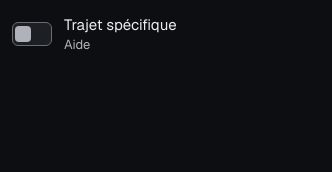
Test case: SwitchField › tout le libellé est cliquable
This screenshot has width=332, height=172.
Click the text "Aide". click: (77, 44)
box: x1=64 y1=36 x2=90 y2=53
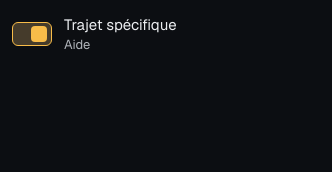
Expected: the switch named "Trajet spécifique" is checked, x1=12 y1=22 x2=52 y2=46
